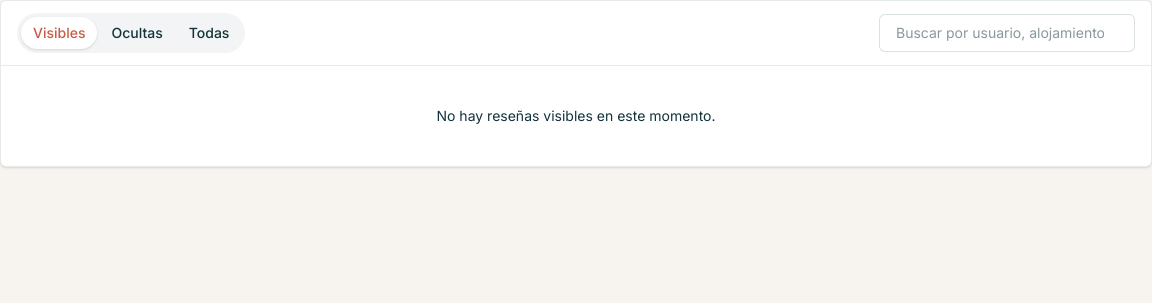
Test: ResenasTable — fila expandible › una reseña oculta muestra el botón Mostrar en vez de Ocultar
Step 1. Click the button "Ocultas" → (137, 33), box top-left (100, 17), bottom-right (175, 49)
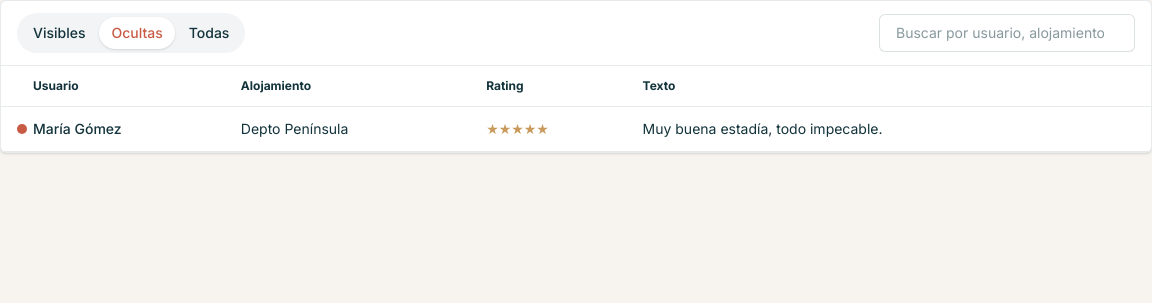
Step 2. Click the text "María Gómez" → (77, 128), box top-left (33, 106), bottom-right (241, 152)
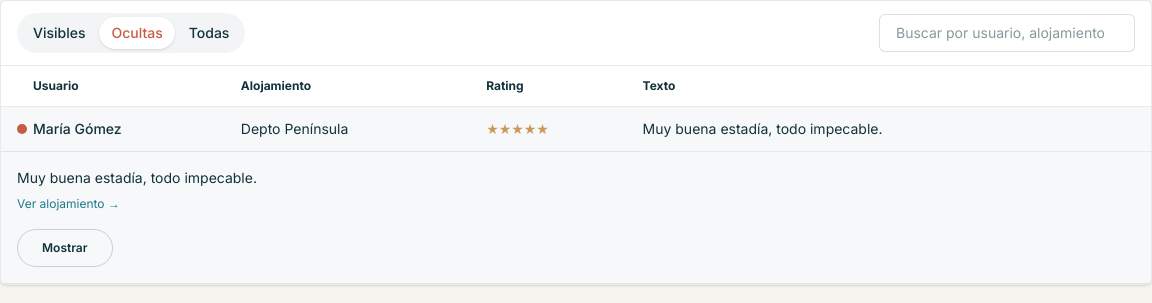
Expected: the button "Mostrar" is shown, top-left (17, 229), bottom-right (112, 267)
